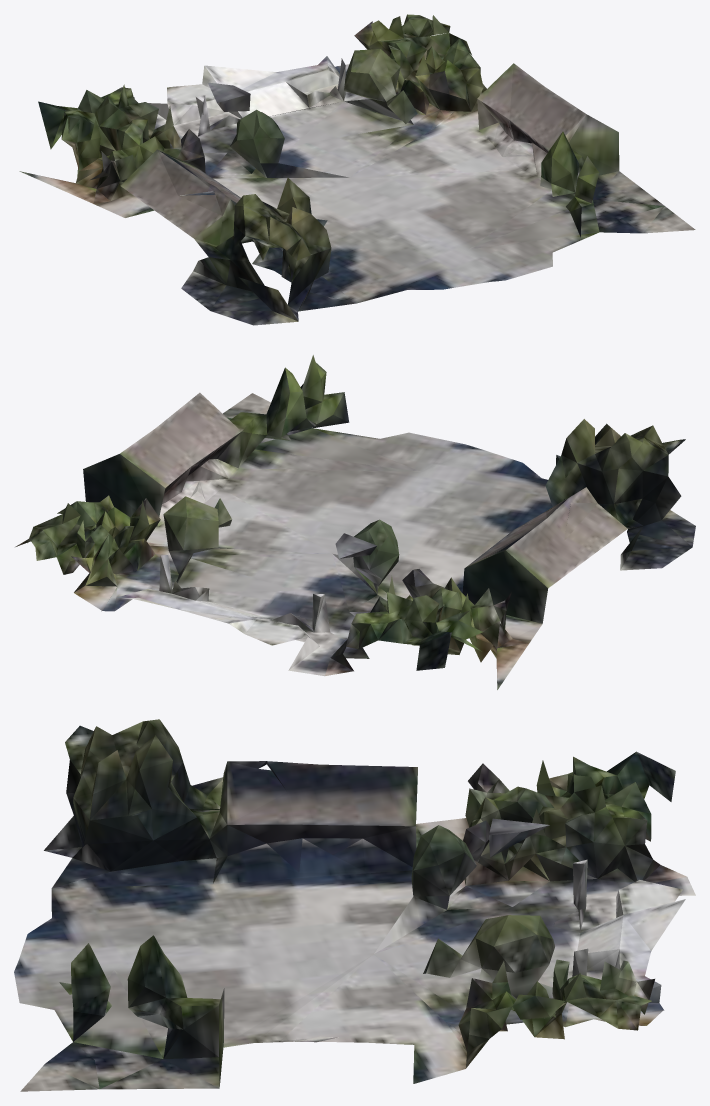
Rendered from Tile_+003_+002_L17_00.glb.
3 views of the same model, one above another, from view 1: azimuth 30°, elevation 25°; view 2: azimuth 150°, elevation 25°; view 3: azimuth 270°, elevation 25° (orthographic). The views are drawn at different scales.
Bounding box in the file's own units: 60.31 × 13.56 × 60.6.
1 material, 1 textured.
